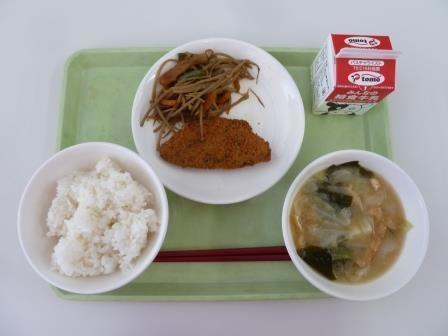Milk: (310, 28, 393, 121)
Rice: (21, 145, 161, 284)
cutlet: (155, 113, 278, 171)
pasta: (142, 48, 265, 124)
vegetable soup: (288, 152, 422, 284)
